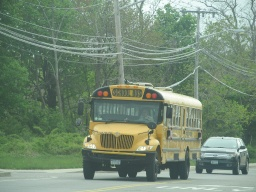bus: (81, 81, 201, 178)
car: (198, 134, 250, 178)
